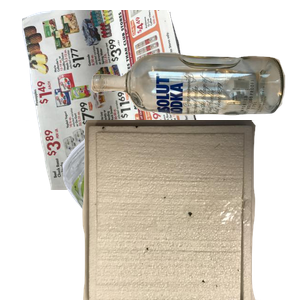glass: (88, 50, 300, 158)
paper: (19, 10, 223, 190)
plastic: (25, 120, 252, 300)
trash: (80, 120, 300, 300)
